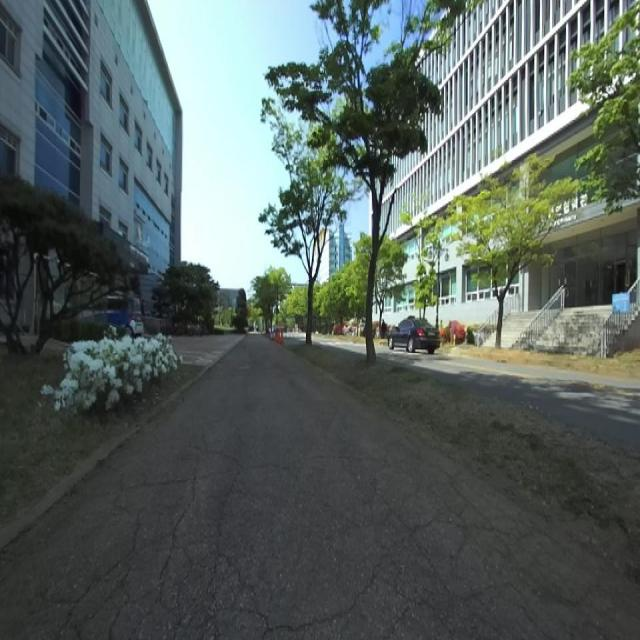sidewalk: (0, 336, 640, 639), (171, 335, 244, 366)
